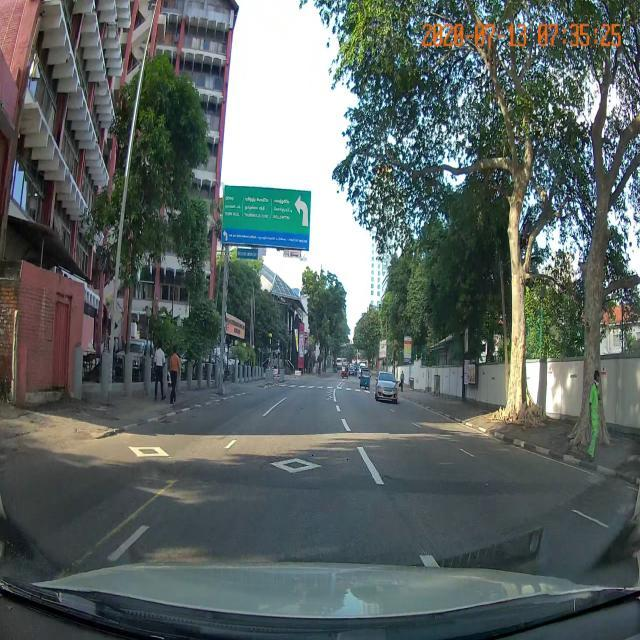diamond: (176, 434, 389, 494)
